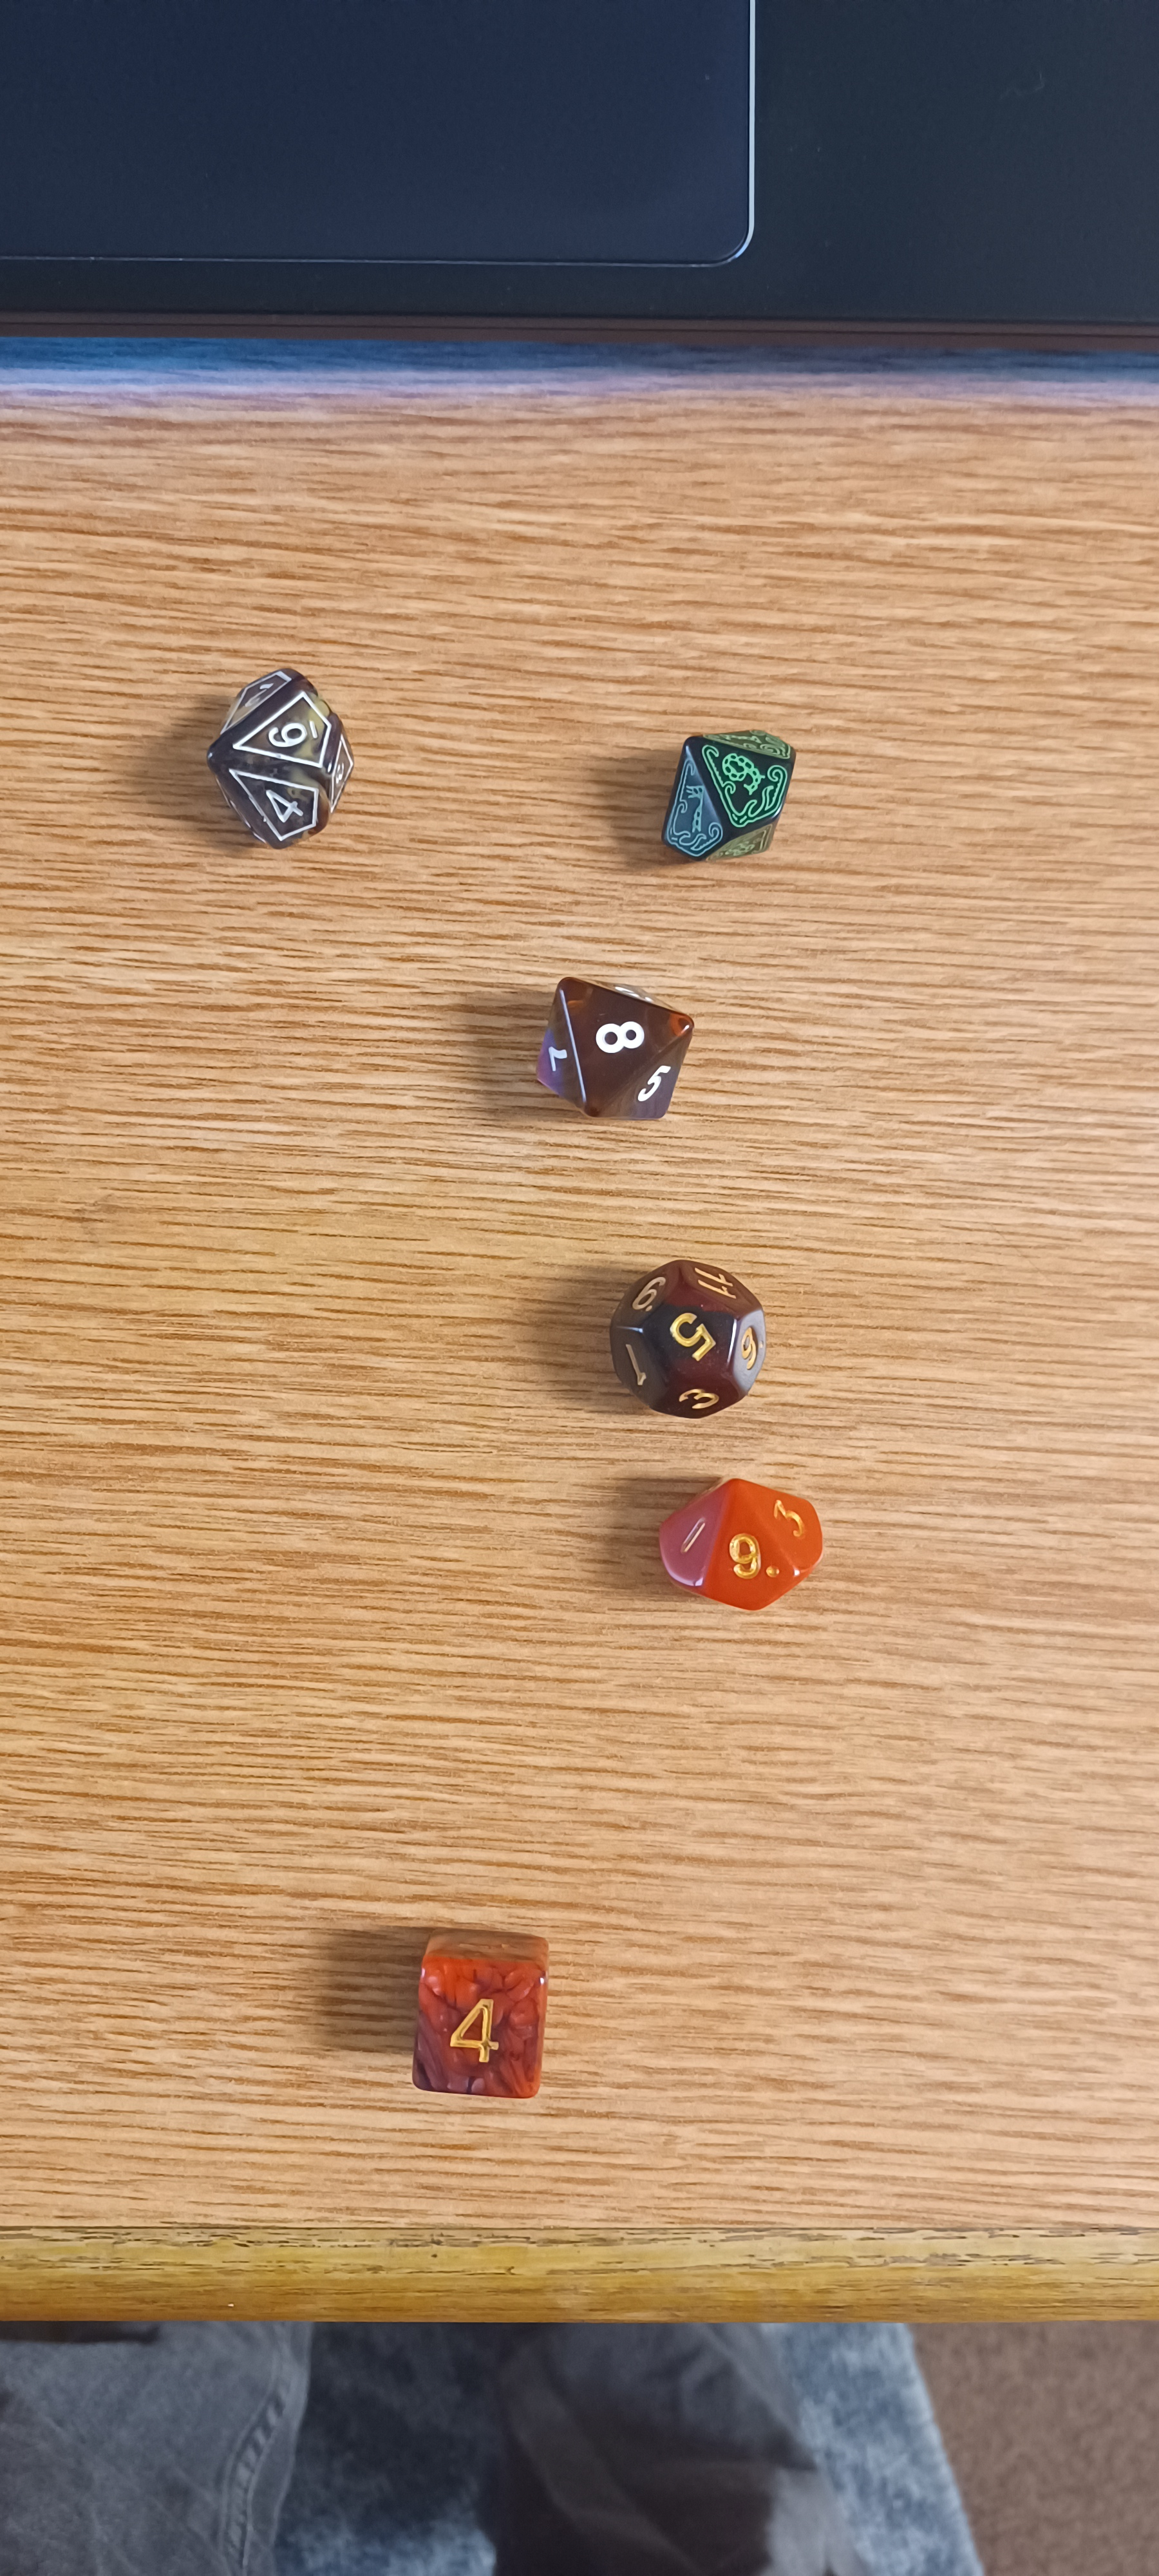eight: (499, 959, 721, 1148)
five: (566, 1245, 813, 1441)
four: (373, 1898, 594, 2139)
nine: (625, 693, 857, 887), (629, 1439, 849, 1638)
six: (194, 652, 379, 864)
